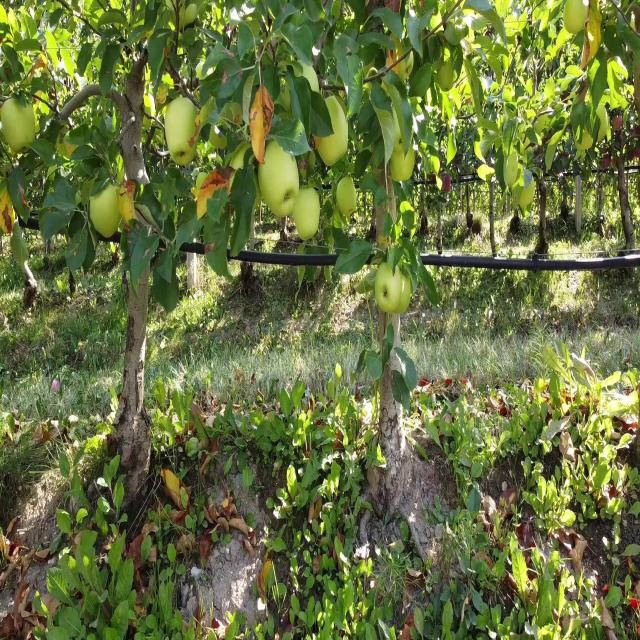apple: (260, 156, 299, 220), (0, 99, 40, 155), (252, 92, 276, 164), (92, 184, 120, 240), (316, 122, 348, 171), (168, 99, 196, 153), (168, 127, 197, 171), (296, 191, 320, 242), (392, 142, 416, 185), (120, 177, 136, 233), (336, 177, 357, 215), (584, 21, 602, 64), (172, 142, 196, 171), (0, 191, 15, 235), (396, 277, 413, 315), (156, 78, 175, 112), (172, 483, 192, 514), (4, 14, 19, 44), (160, 71, 175, 100), (388, 49, 404, 76), (144, 92, 156, 119), (8, 14, 19, 41), (164, 478, 178, 498), (172, 511, 188, 526), (632, 7, 640, 36), (8, 14, 19, 32), (476, 142, 485, 160), (56, 277, 65, 292), (0, 7, 8, 23), (464, 78, 472, 94), (444, 177, 452, 192), (584, 135, 592, 149), (204, 455, 211, 468), (336, 369, 344, 377), (44, 433, 52, 441), (164, 469, 171, 478), (532, 391, 536, 398)
